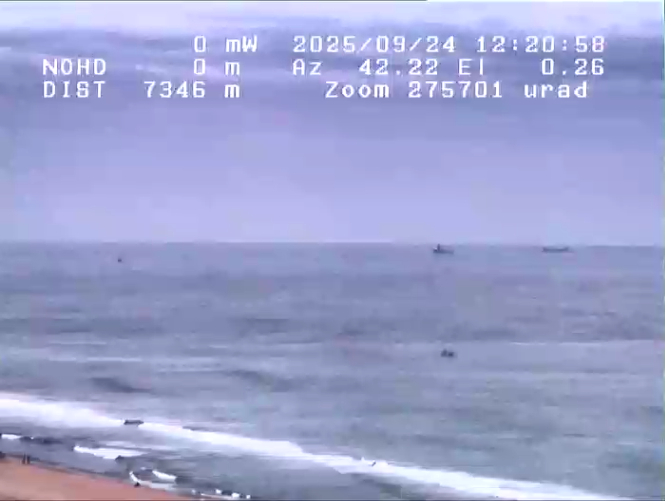OFFSHORE_SUPPLY_VESSEL: (429, 236, 466, 257)
TANKER: (534, 239, 585, 261)
